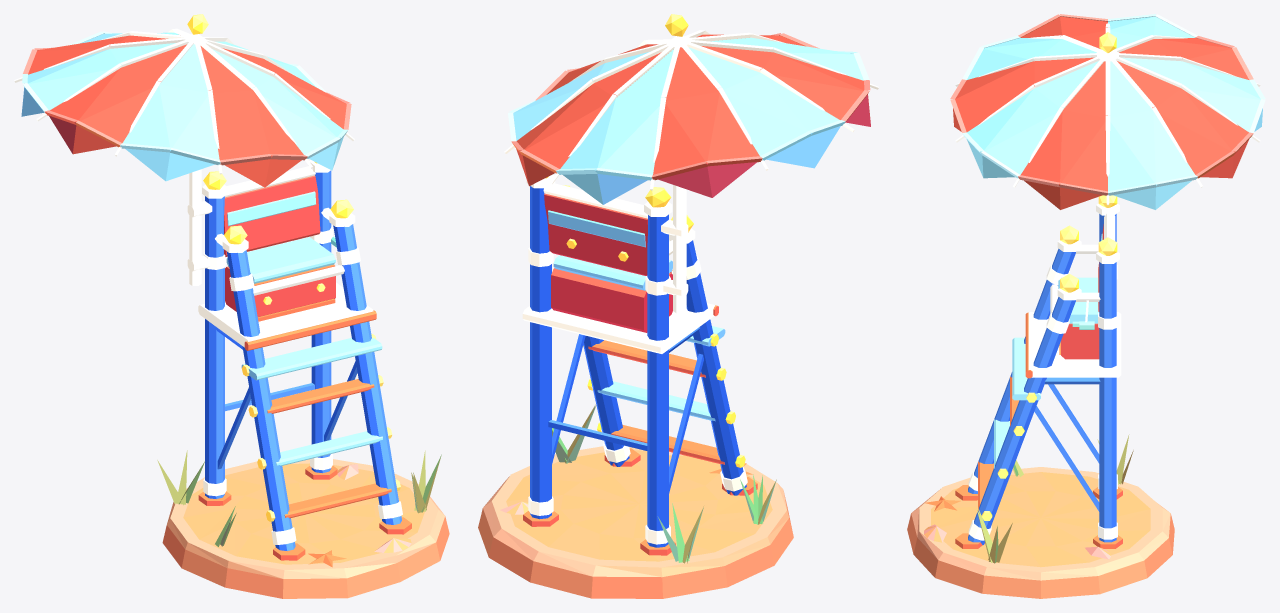
File: referee-chair.glb
3 renders of one model, left to right at view 1: azimuth 30°, elevation 25°; view 2: azimuth 150°, elevation 25°; view 3: azimuth 270°, elevation 25°, orthographic. The views are drawn at different scales.
Visible parts, largest first — view 1: Ground, Stripes, Frame, Canopy, Trim, Cloth, Caps; view 2: Ground, Stripes, Frame, Canopy, Trim, Cloth, Caps; view 3: Ground, Stripes, Canopy, Frame, Trim, Cloth, Caps.
Boxes of the visible parts, left/top/right/bottom form: Ground: left=157, top=450, right=449, bottom=598; Stripes: left=21, top=31, right=382, bottom=465; Frame: left=205, top=170, right=401, bottom=550; Canopy: left=23, top=35, right=351, bottom=187; Trim: left=14, top=28, right=402, bottom=544; Cloth: left=198, top=175, right=411, bottom=560; Caps: left=187, top=14, right=400, bottom=521; Ground: left=478, top=404, right=793, bottom=598; Stripes: left=508, top=37, right=869, bottom=421; Frame: left=530, top=186, right=746, bottom=547; Canopy: left=511, top=33, right=870, bottom=197; Trim: left=504, top=30, right=878, bottom=544; Cloth: left=523, top=193, right=757, bottom=555; Caps: left=545, top=14, right=745, bottom=467; Ground: left=907, top=434, right=1174, bottom=598; Stripes: left=962, top=14, right=1265, bottom=468; Canopy: left=950, top=14, right=1253, bottom=209; Frame: left=968, top=214, right=1116, bottom=544; Trim: left=955, top=23, right=1260, bottom=540; Cloth: left=955, top=224, right=1122, bottom=548; Caps: left=981, top=32, right=1117, bottom=520.
Bounding box in the file's own units: 2.27 × 3.13 × 2.14.
